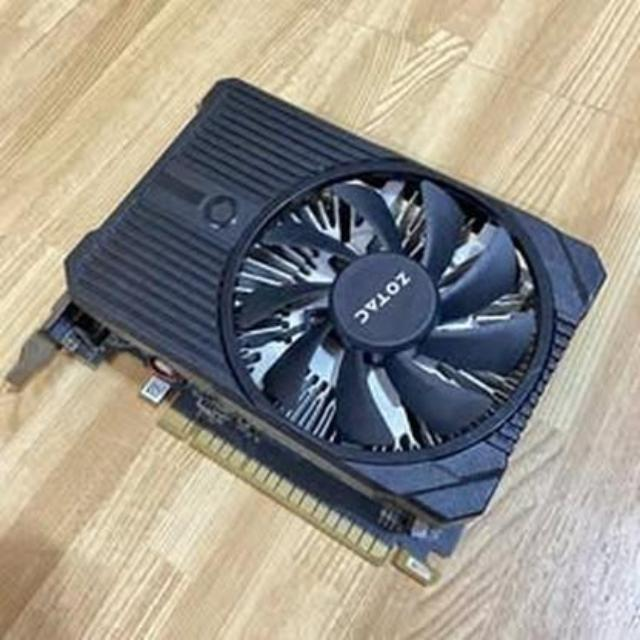GPU: (62, 60, 606, 588)
